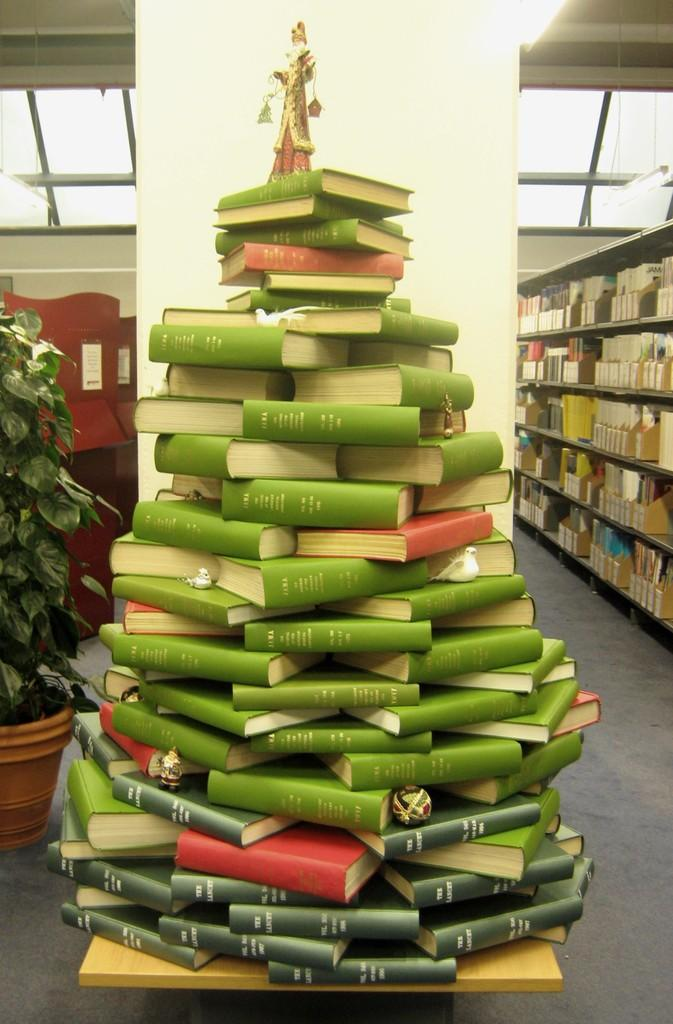Book: (35, 158, 598, 994), (507, 469, 672, 627), (512, 420, 670, 554), (507, 245, 672, 330), (502, 401, 672, 476), (506, 326, 672, 387)
